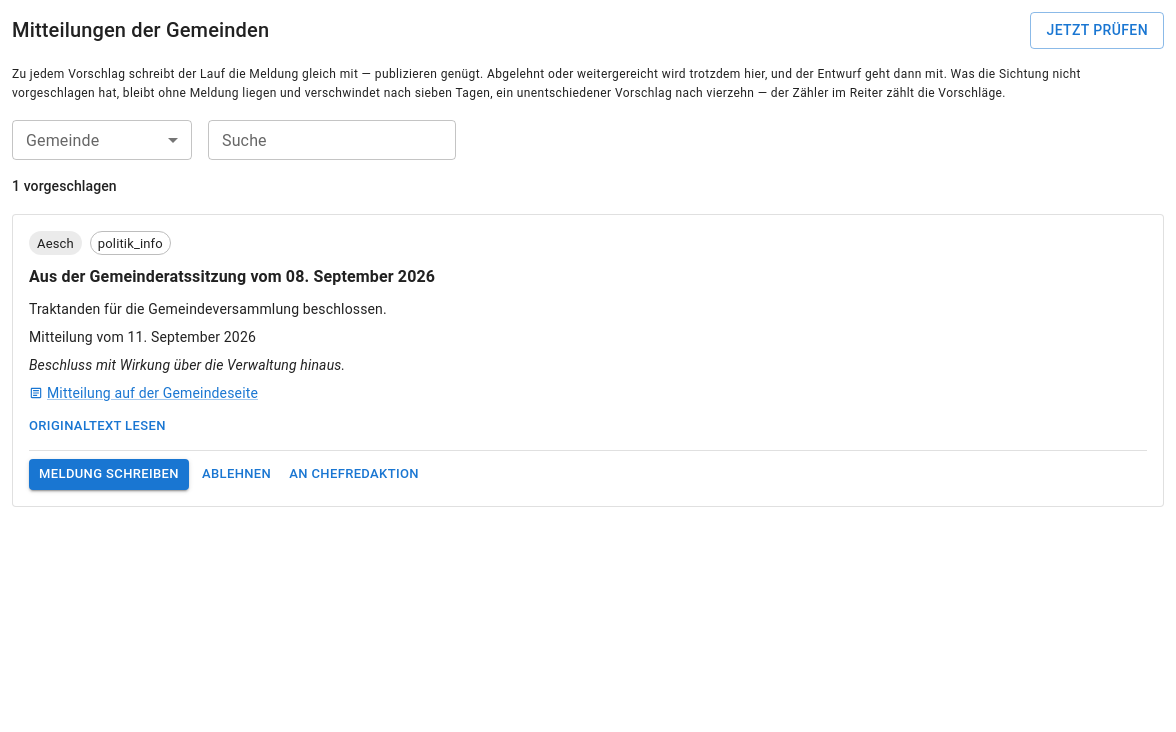
Gemeindeseiten › zeigt den Originaltext erst auf Klick
Expected: the text "Parkraumkonzept" is not shown
Click the button "Originaltext lesen": {"x": 97, "y": 427} [29, 411, 166, 442]
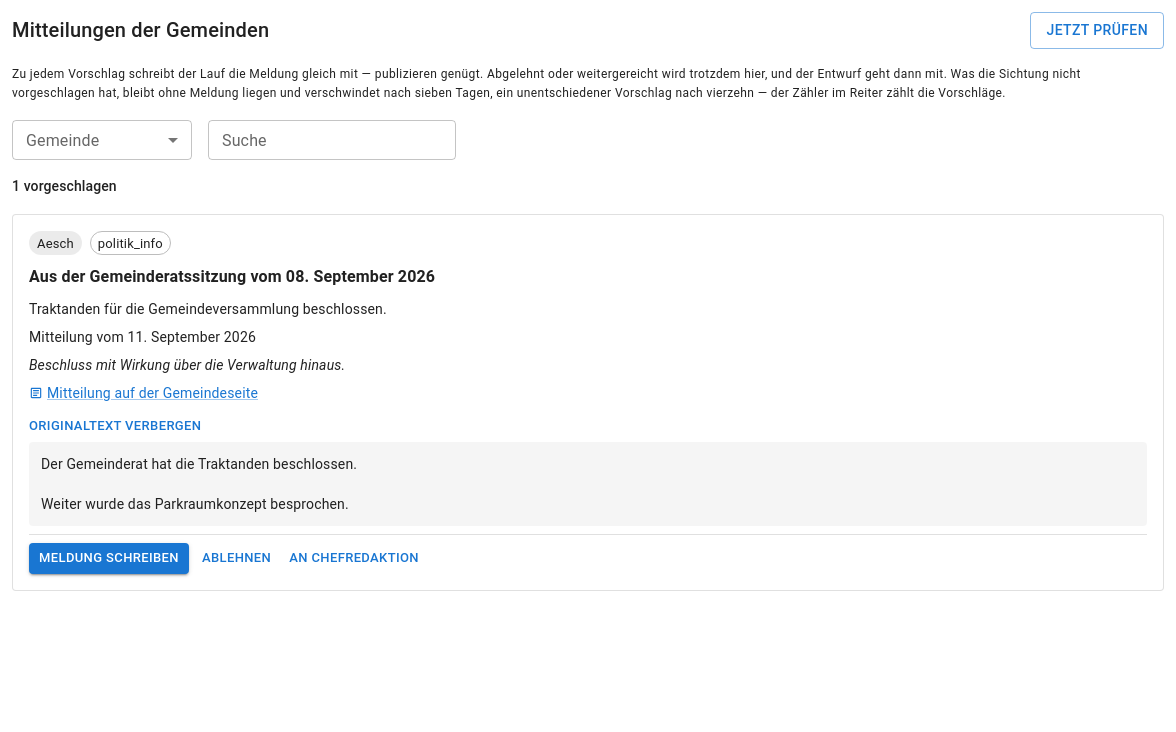
Expected: the text "Parkraumkonzept" is shown, [41, 456, 357, 512]
